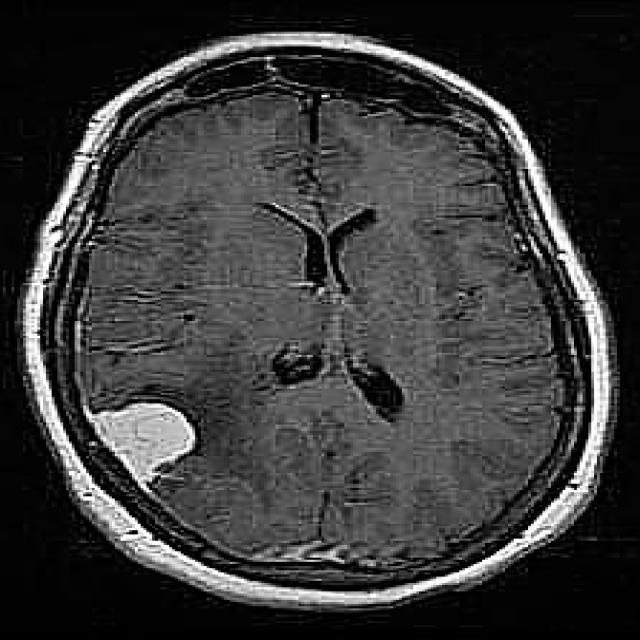Tumor-Cell: (86, 376, 224, 490)
